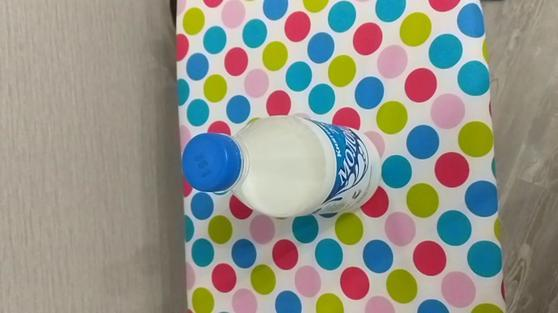milk: (176, 109, 395, 218)
